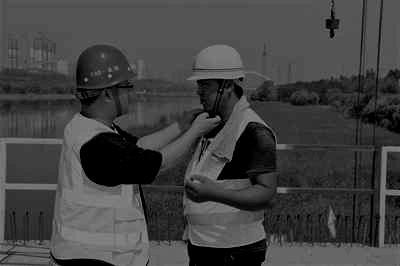helmet: (74, 44, 139, 117), (186, 43, 245, 114)
